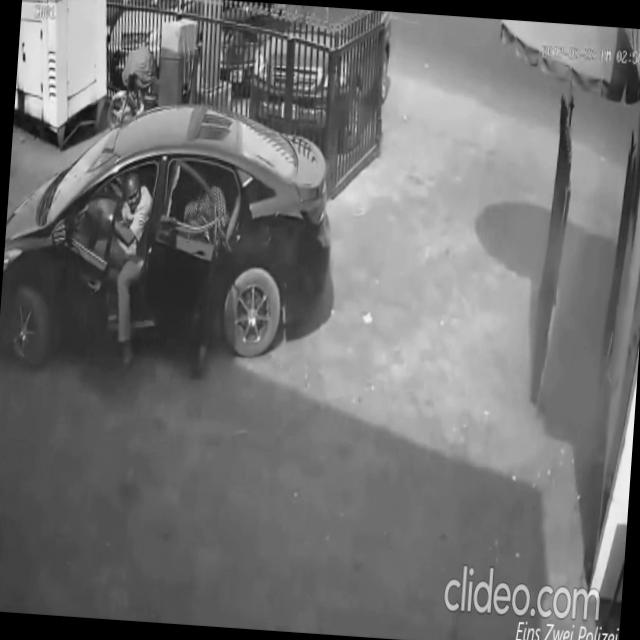gun: (204, 208, 238, 263)
person: (84, 166, 156, 370)
person with a gun: (166, 170, 241, 380)
